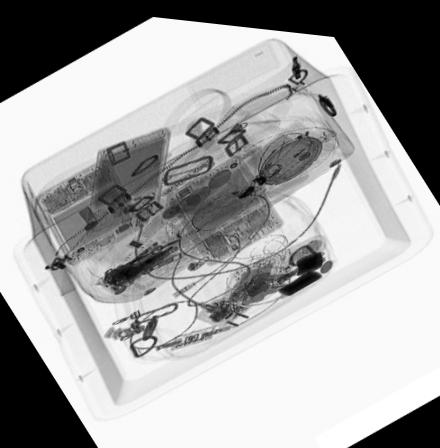Lighter: (235, 119, 340, 194)
